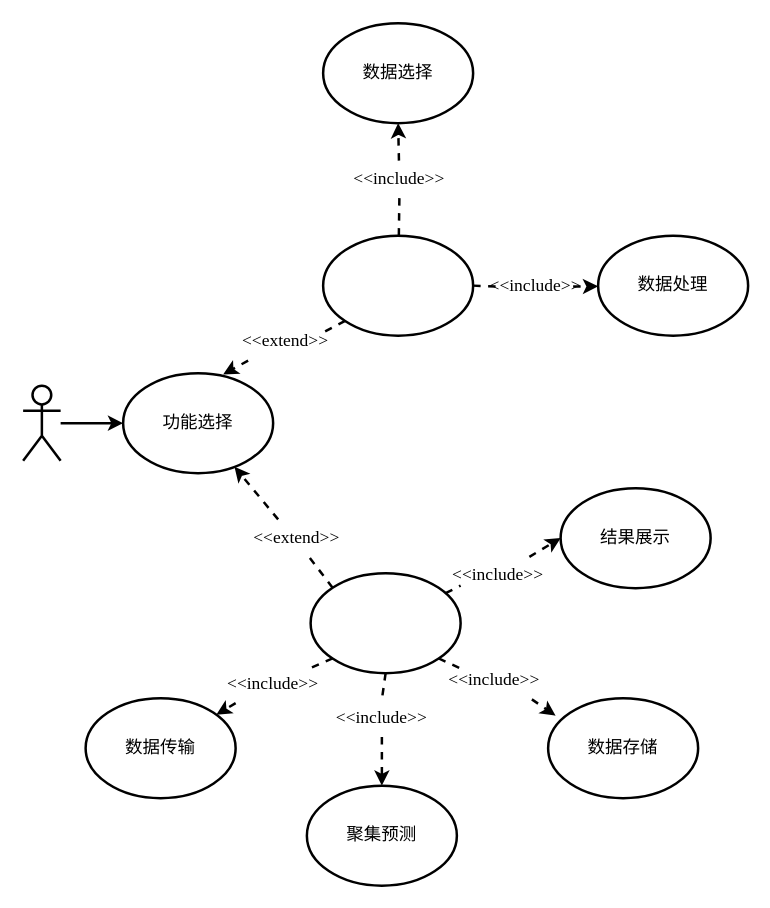
Some shapes in this 770 by 908 pixel diagram are drawn without their labels. Here are the shapes that lost their labels. From the top down, the centre of each, then its label:
At (x=397, y=285): "数据展示".
At (x=41, y=422): "Actor".
At (x=385, y=622): "实时预测结果展示".
